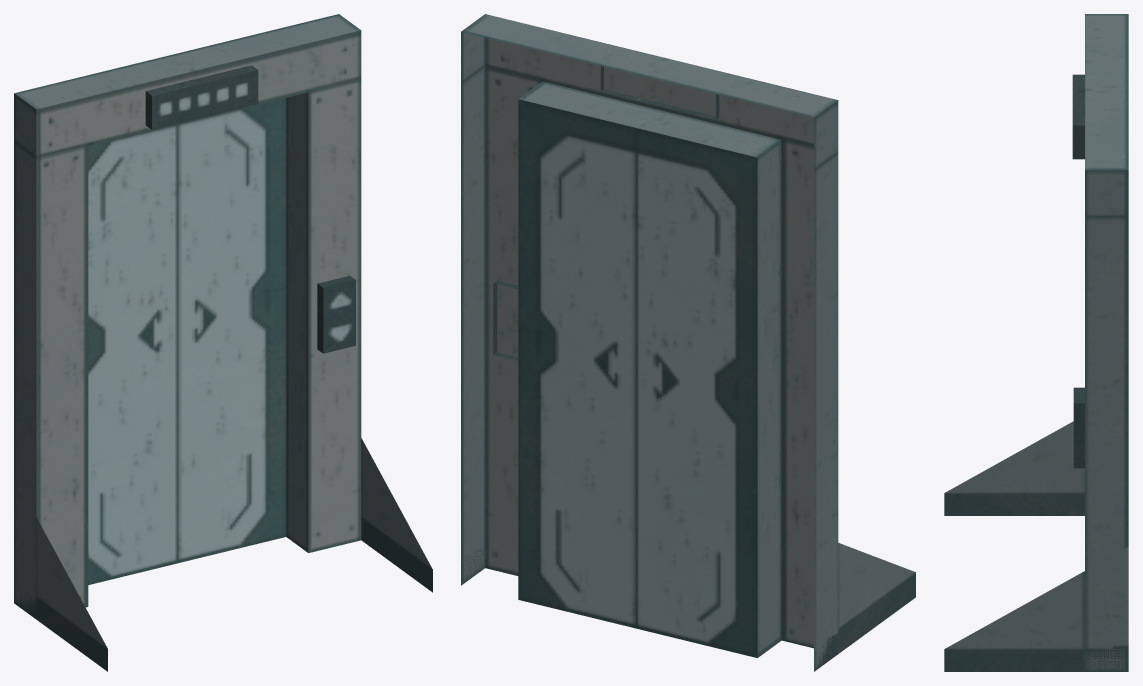
Rendered from MK_Ship_Elevator.fbx.
3 renders of one model, left to right at view 1: azimuth 30°, elevation 25°; view 2: azimuth 150°, elevation 25°; view 3: azimuth 270°, elevation 25°, orthographic. The views are drawn at different scales.
Parts seen in each view (by area): view 1: MK_Ship_Elevator; view 2: MK_Ship_Elevator; view 3: MK_Ship_Elevator.
Boxes of the visible parts, box(x1,y1,x2,y2) form: MK_Ship_Elevator: box(14, 14, 432, 671); MK_Ship_Elevator: box(461, 14, 915, 671); MK_Ship_Elevator: box(944, 14, 1128, 671).
Bounding box in the file's own units: 0.5001 × 0.75 × 0.25.
Materials: 1 (1 with a texture image).
